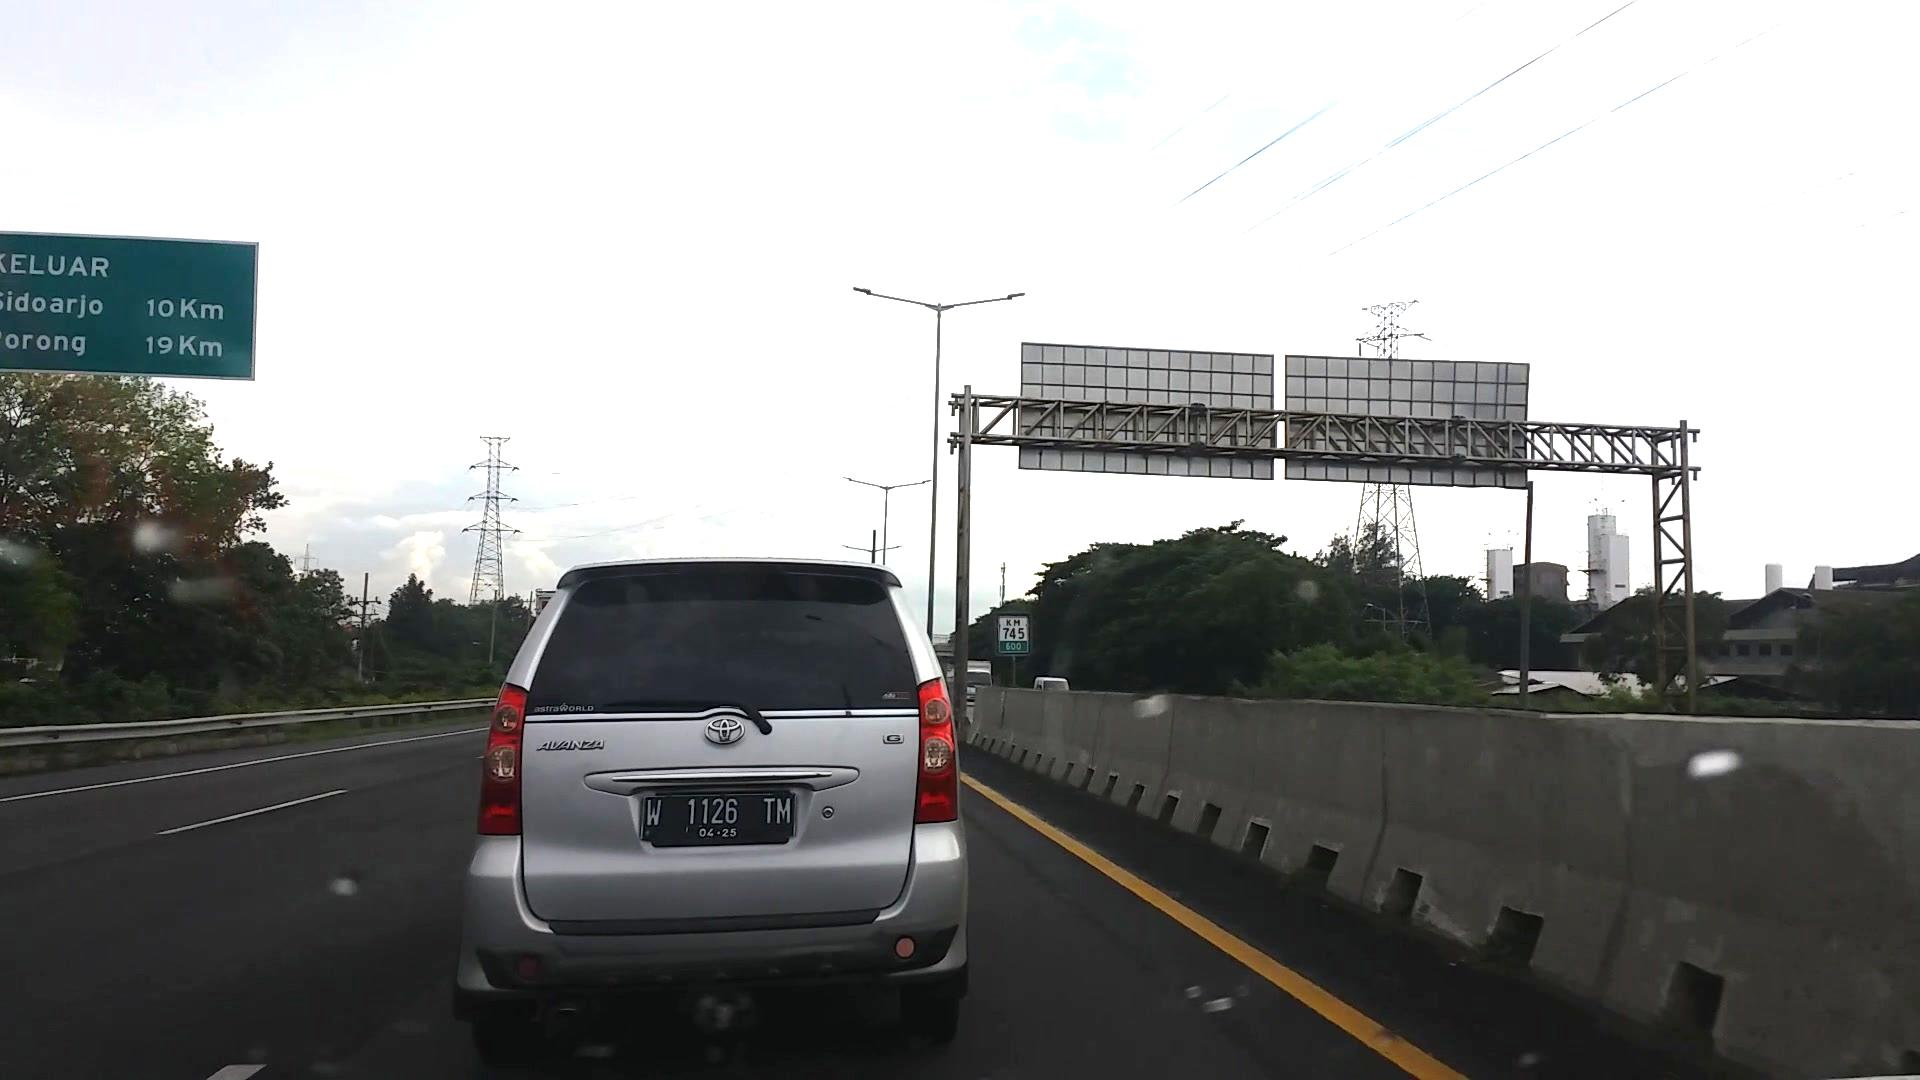plate_positive: (640, 794, 796, 840)
